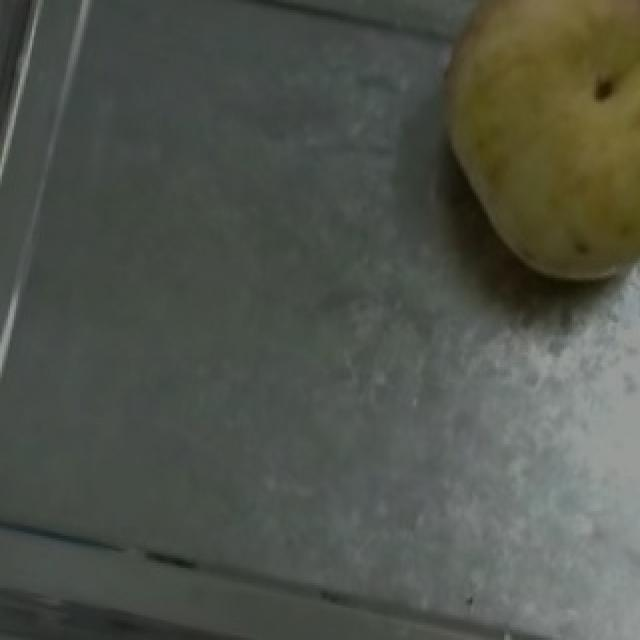Fruit: (402, 0, 640, 313)
